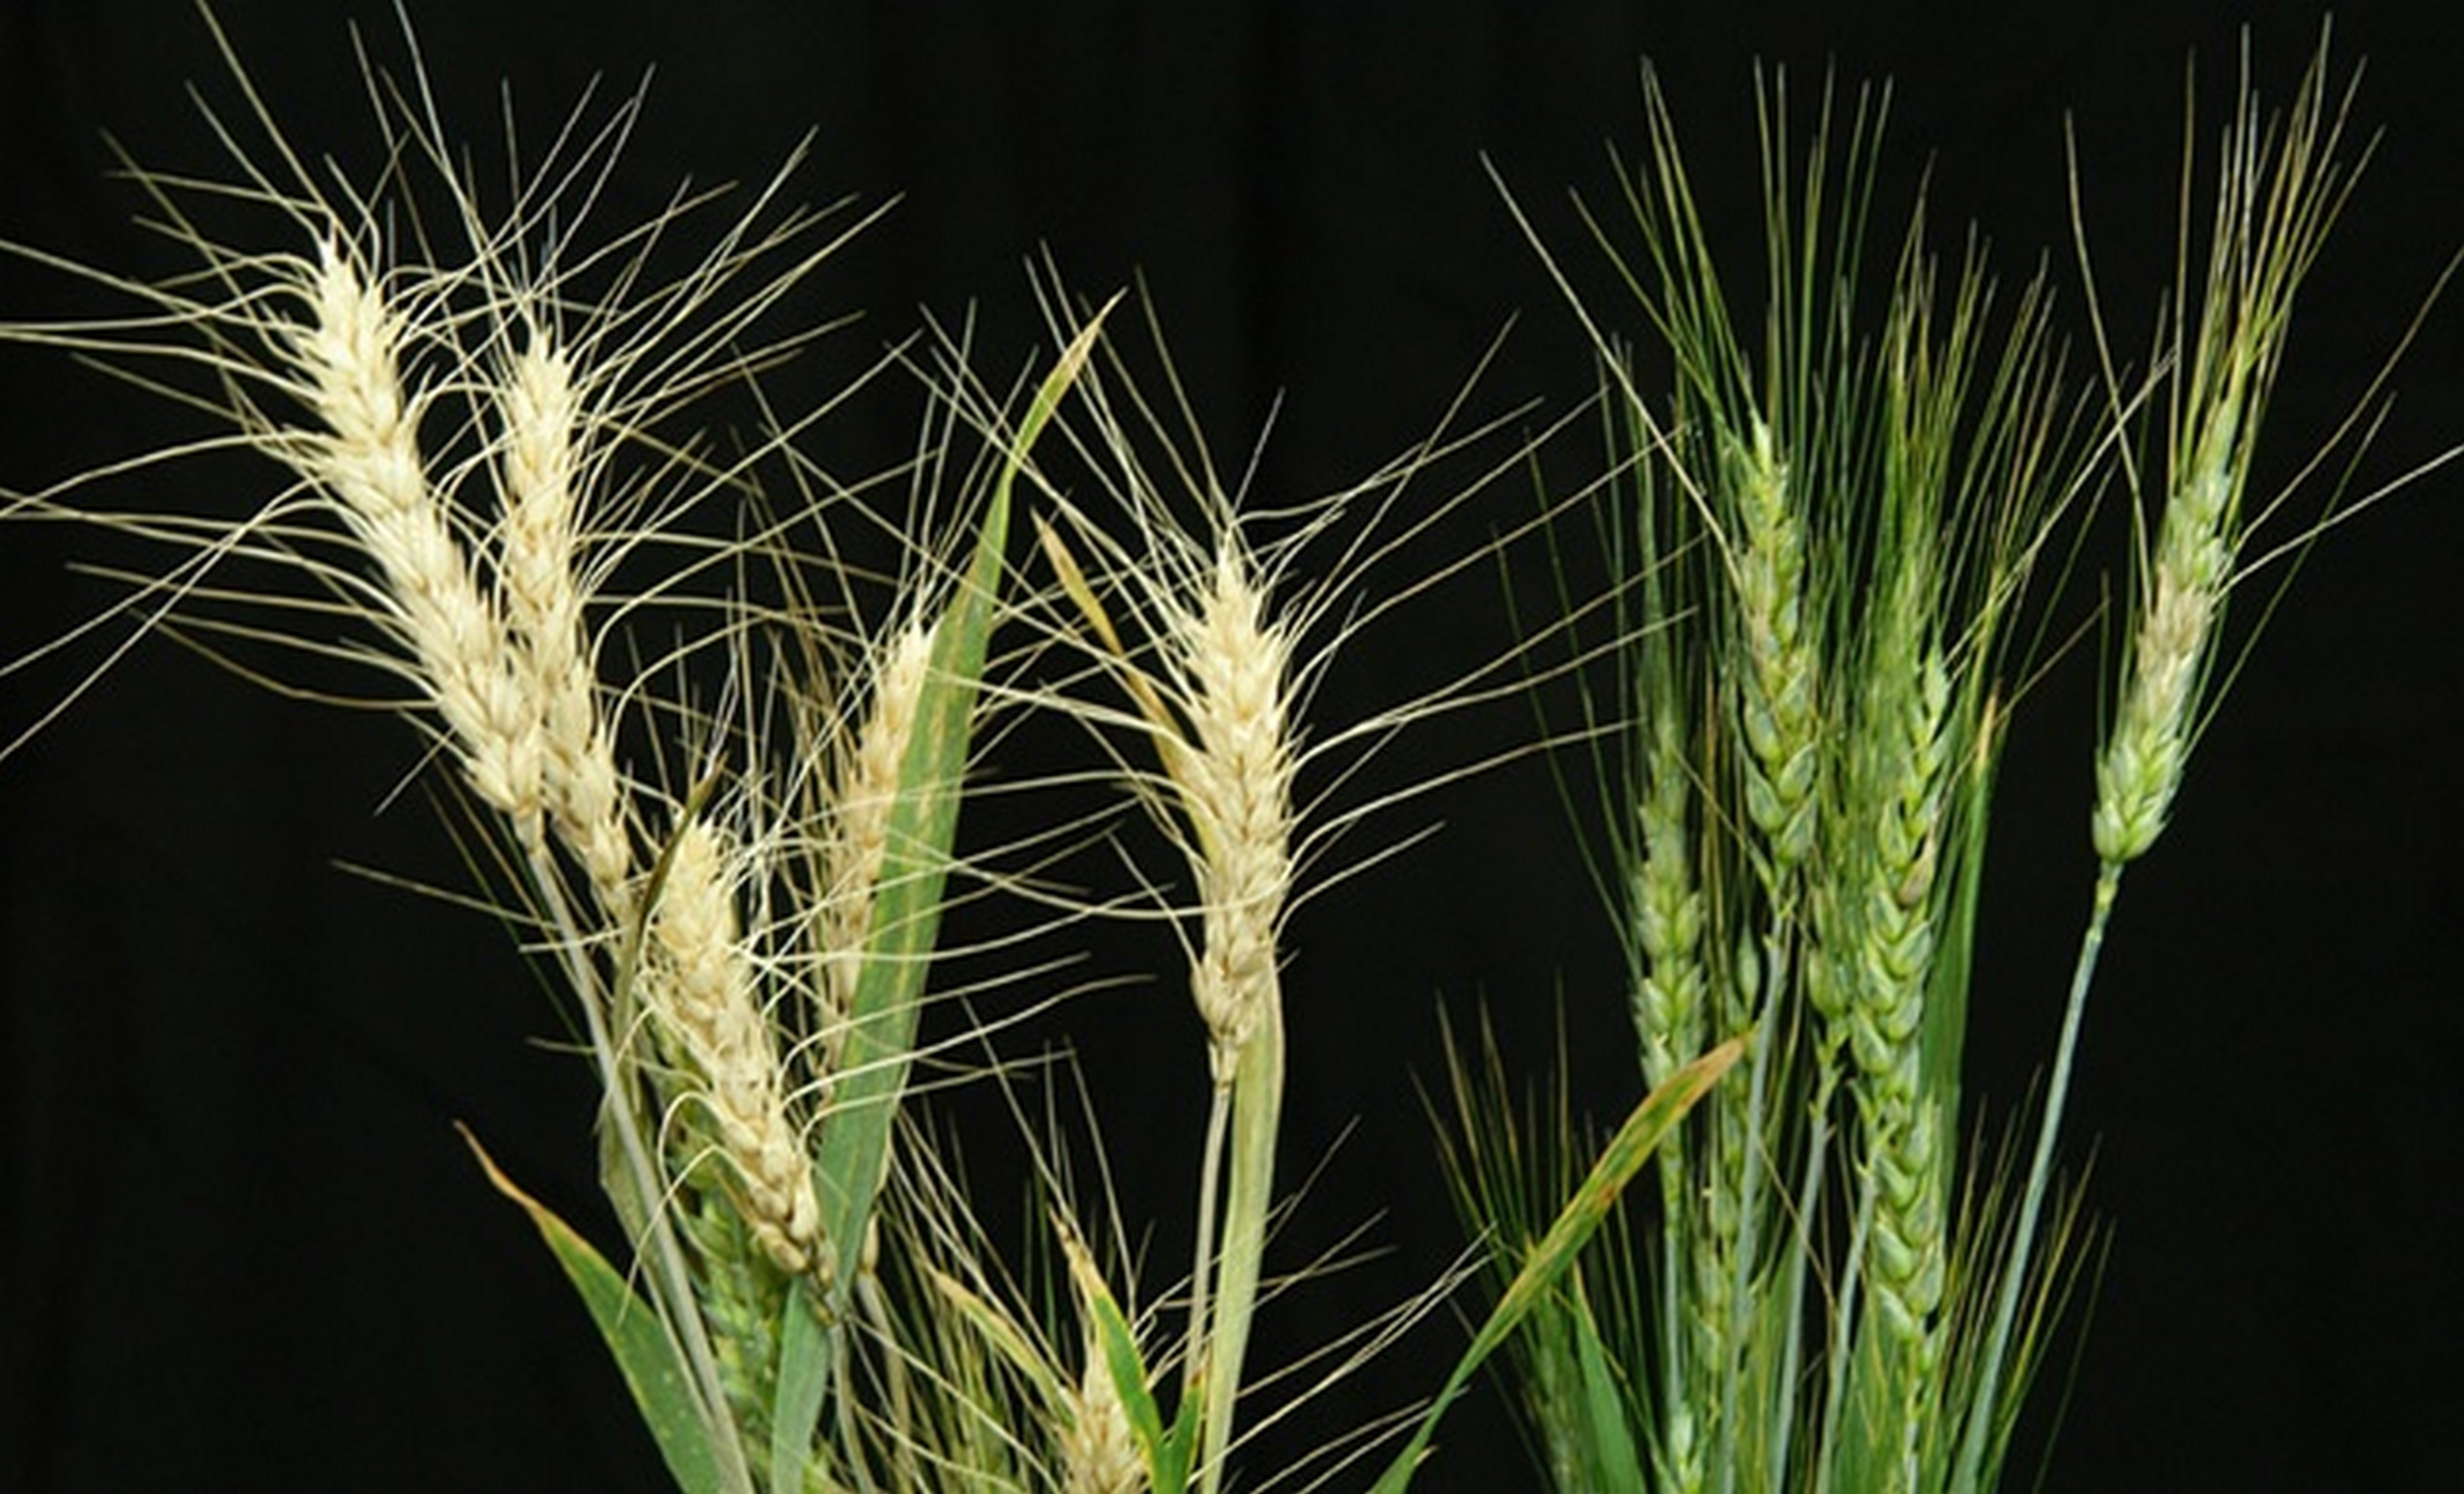Healthy Wheat: (257, 259, 857, 1265), (1552, 363, 2008, 1158)
